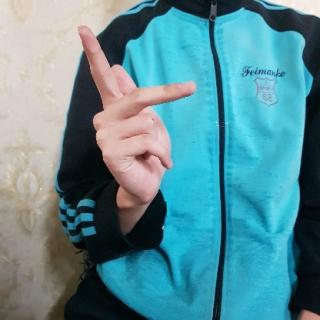DHAA: (72, 20, 204, 217)
